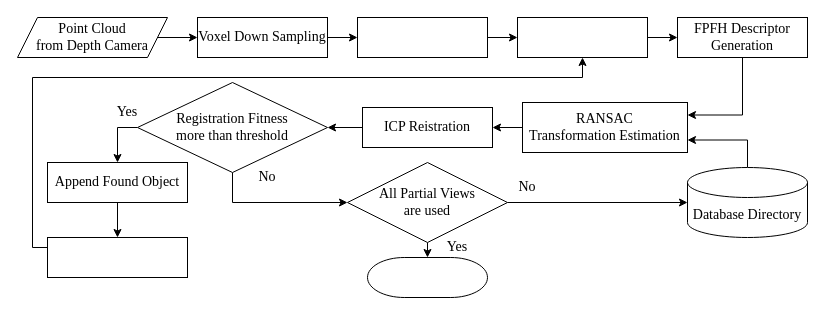
Some shapes in this 825 by 315 pixel diagram are drawn without their labels. Here are the shapes that lost their labels. From the top down, the box of each, then its label:
(356, 16, 488, 58): Outlier Removal
(516, 16, 648, 58): Normal Estimation
(46, 236, 188, 278): Remove found Cloud from Scene
(366, 256, 488, 298): Not found more
